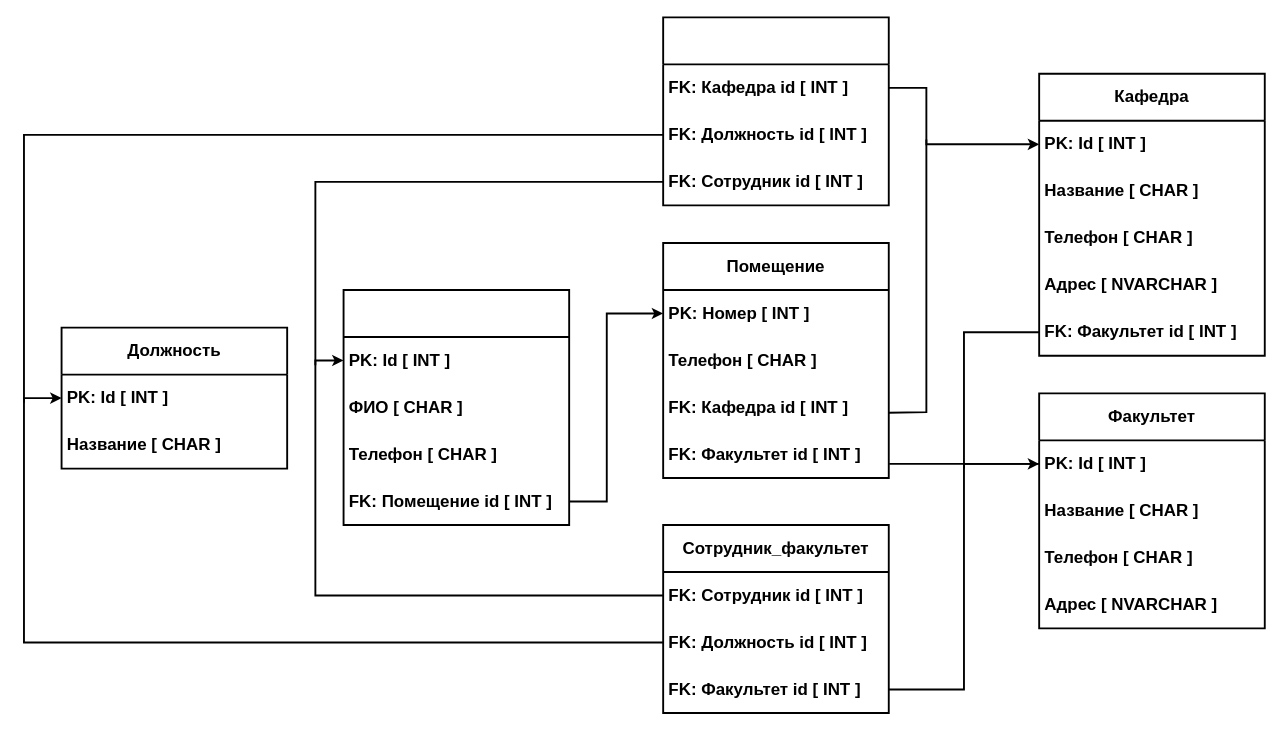
Image size: 1281x729. Some labels were removed from this diagram. The box of each missing label's shape, as (x1, y1, x2, y2) in pixels:
Сотрудник: (342, 289, 570, 525)
Сотрудник_кафедра: (662, 16, 889, 206)
